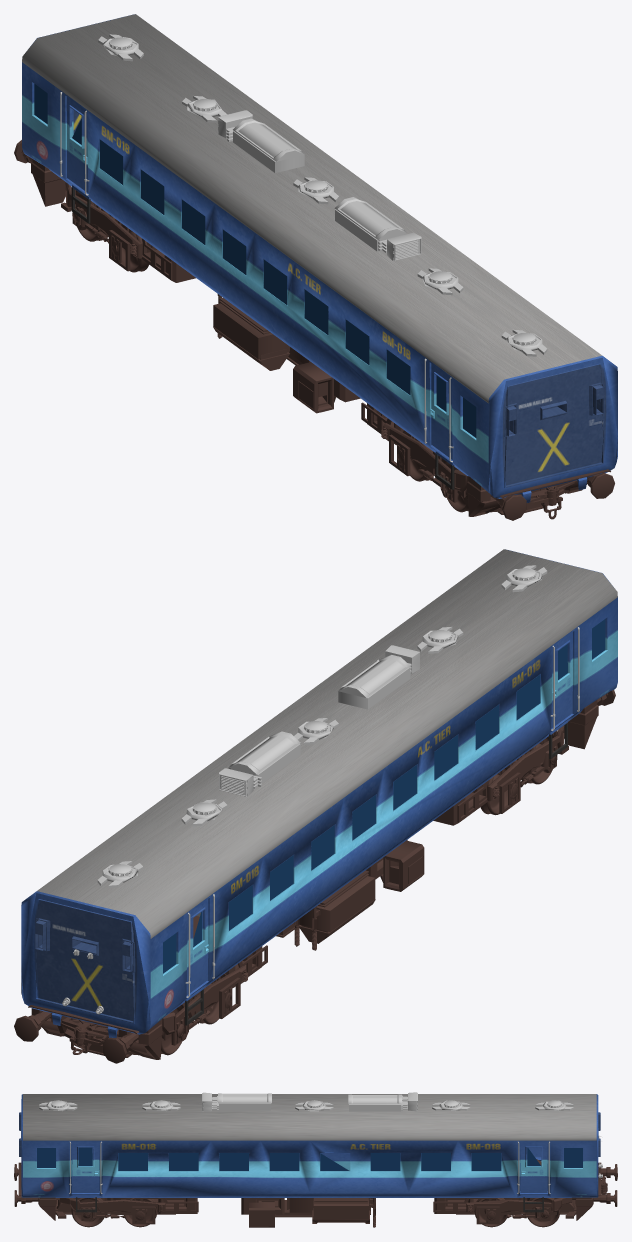
Rendered from coach.glb.
The picture shows the model from 3 angles, top to bottom: view 1: azimuth 30°, elevation 25°; view 2: azimuth 150°, elevation 25°; view 3: azimuth 270°, elevation 25°; orthographic projection. The views are drawn at different scales.
Visible parts, largest first — view 1: Object_4, Object_29, Object_3, Object_20, Object_18, Object_17, Object_15, Object_21, Object_28, Object_22, Object_30, Object_14; view 2: Object_4, Object_29, Object_3, Object_20, Object_18, Object_17, Object_15, Object_21, Object_28, Object_27, Object_30, Object_22 (+1 smaller); view 3: Object_4, Object_3, Object_29, Object_20, Object_21, Object_18, Object_15, Object_17, Object_14, Object_30, Object_28, Object_22 (+6 smaller).
Boxes of the visible parts, bbox=[...] form: Object_4: bbox=[22, 14, 617, 502]; Object_29: bbox=[98, 34, 547, 356]; Object_3: bbox=[34, 84, 476, 437]; Object_20: bbox=[65, 182, 468, 491]; Object_18: bbox=[72, 203, 557, 519]; Object_17: bbox=[31, 159, 587, 516]; Object_15: bbox=[213, 294, 289, 359]; Object_21: bbox=[61, 202, 565, 514]; Object_28: bbox=[218, 110, 421, 260]; Object_22: bbox=[14, 140, 614, 520]; Object_30: bbox=[59, 92, 426, 443]; Object_14: bbox=[76, 190, 405, 468]; Object_4: bbox=[21, 549, 617, 1037]; Object_29: bbox=[97, 565, 547, 887]; Object_3: bbox=[163, 619, 605, 973]; Object_20: bbox=[161, 725, 564, 1034]; Object_18: bbox=[31, 744, 556, 1054]; Object_17: bbox=[75, 700, 598, 1059]; Object_15: bbox=[294, 876, 375, 950]; Object_21: bbox=[14, 746, 568, 1057]; Object_28: bbox=[73, 645, 419, 958]; Object_27: bbox=[28, 1005, 138, 1053]; Object_30: bbox=[185, 645, 555, 997]; Object_22: bbox=[102, 690, 615, 1063]; Object_4: bbox=[19, 1094, 600, 1212]; Object_3: bbox=[37, 1147, 582, 1170]; Object_29: bbox=[39, 1093, 573, 1111]; Object_20: bbox=[59, 1198, 572, 1227]; Object_21: bbox=[55, 1190, 617, 1218]; Object_18: bbox=[81, 1187, 607, 1227]; Object_15: bbox=[146, 1198, 526, 1218]; Object_17: bbox=[38, 1182, 606, 1222]; Object_14: bbox=[56, 1159, 575, 1223]; Object_30: bbox=[100, 1100, 550, 1193]; Object_28: bbox=[202, 1092, 601, 1137]; Object_22: bbox=[14, 1164, 617, 1206].
Size of the model in its own units: 2.01 by 2.83 by 12.97.
Materials: 4 (1 with a texture image).
